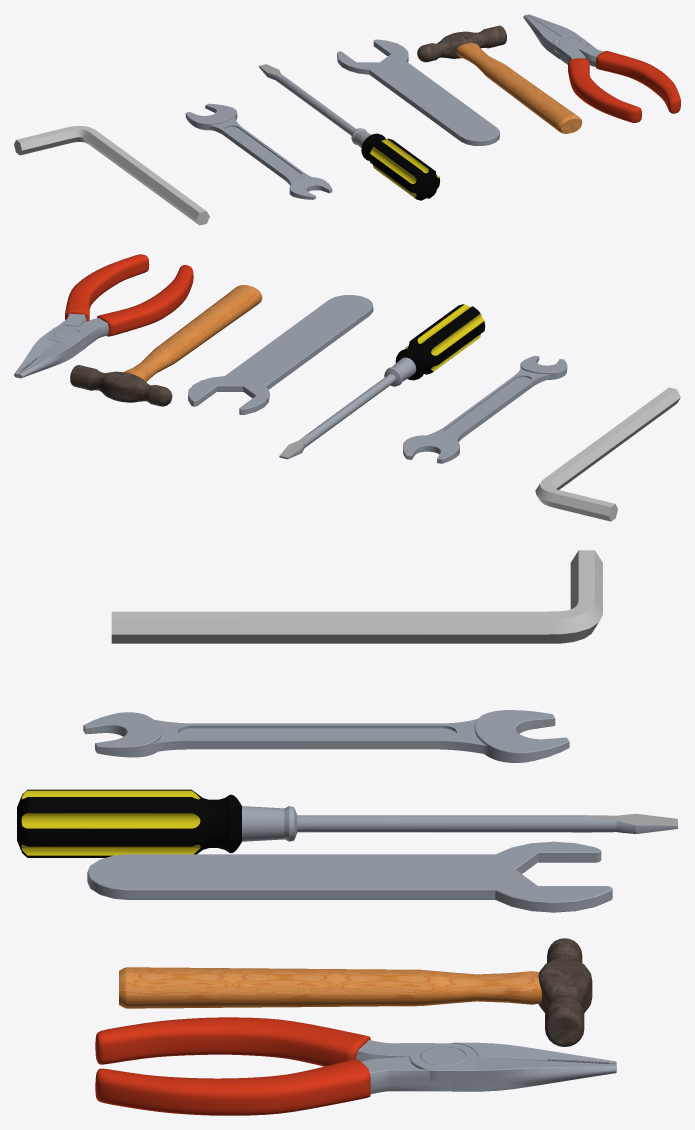
The model's file is chaizhuanggongju.fbx.
The picture shows the model from 3 angles, top to bottom: view 1: azimuth 30°, elevation 25°; view 2: azimuth 150°, elevation 25°; view 3: azimuth 270°, elevation 25°; orthographic projection. The views are drawn at different scales.
Parts seen in each view (by area): view 1: wailiujiaobanshou, yiziluosidao, neiliujiaobanshou3, daibanshou, polySurface6, Needle_Nose_Pliars_Lever:Needle_Nose_Pliars_Lever_Part_2, Needle_Nose_Pliars_Base:Needle_Nose_Pliars_Base_Part_2, polySurface10, Needle_Nose_Pliars_Lever:Needle_Nose_Pliars_Lever_Part_1, Needle_Nose_Pliars_Base:Needle_Nose_Pliars_Base_Part_1; view 2: wailiujiaobanshou, yiziluosidao, neiliujiaobanshou3, daibanshou, polySurface6, Needle_Nose_Pliars_Base:Needle_Nose_Pliars_Base_Part_2, polySurface10, Needle_Nose_Pliars_Lever:Needle_Nose_Pliars_Lever_Part_2, Needle_Nose_Pliars_Base:Needle_Nose_Pliars_Base_Part_1, Needle_Nose_Pliars_Lever:Needle_Nose_Pliars_Lever_Part_1; view 3: wailiujiaobanshou, yiziluosidao, neiliujiaobanshou3, polySurface6, daibanshou, Needle_Nose_Pliars_Lever:Needle_Nose_Pliars_Lever_Part_2, Needle_Nose_Pliars_Base:Needle_Nose_Pliars_Base_Part_2, Needle_Nose_Pliars_Base:Needle_Nose_Pliars_Base_Part_1, polySurface10, Needle_Nose_Pliars_Lever:Needle_Nose_Pliars_Lever_Part_1.
Boxes of the visible parts, bbox=[...] form: wailiujiaobanshou: bbox=[337, 39, 499, 145]; yiziluosidao: bbox=[259, 64, 439, 200]; neiliujiaobanshou3: bbox=[14, 126, 209, 225]; daibanshou: bbox=[185, 103, 332, 199]; polySurface6: bbox=[456, 43, 582, 133]; Needle_Nose_Pliars_Lever:Needle_Nose_Pliars_Lever_Part_2: bbox=[596, 51, 680, 113]; Needle_Nose_Pliars_Base:Needle_Nose_Pliars_Base_Part_2: bbox=[568, 58, 641, 122]; polySurface10: bbox=[417, 25, 506, 62]; Needle_Nose_Pliars_Lever:Needle_Nose_Pliars_Lever_Part_1: bbox=[523, 14, 603, 66]; Needle_Nose_Pliars_Base:Needle_Nose_Pliars_Base_Part_1: bbox=[527, 14, 587, 64]; wailiujiaobanshou: bbox=[188, 295, 373, 414]; yiziluosidao: bbox=[279, 304, 485, 459]; neiliujiaobanshou3: bbox=[535, 387, 680, 521]; daibanshou: bbox=[403, 355, 567, 463]; polySurface6: bbox=[123, 285, 262, 382]; Needle_Nose_Pliars_Base:Needle_Nose_Pliars_Base_Part_2: bbox=[97, 265, 193, 336]; polySurface10: bbox=[70, 365, 172, 406]; Needle_Nose_Pliars_Lever:Needle_Nose_Pliars_Lever_Part_2: bbox=[65, 254, 149, 321]; Needle_Nose_Pliars_Base:Needle_Nose_Pliars_Base_Part_1: bbox=[14, 318, 108, 377]; Needle_Nose_Pliars_Lever:Needle_Nose_Pliars_Lever_Part_1: bbox=[18, 313, 86, 378]; wailiujiaobanshou: bbox=[87, 841, 612, 912]; yiziluosidao: bbox=[17, 789, 677, 857]; neiliujiaobanshou3: bbox=[111, 550, 602, 643]; polySurface6: bbox=[119, 967, 541, 1008]; daibanshou: bbox=[83, 710, 569, 762]; Needle_Nose_Pliars_Lever:Needle_Nose_Pliars_Lever_Part_2: bbox=[95, 1059, 370, 1115]; Needle_Nose_Pliars_Base:Needle_Nose_Pliars_Base_Part_2: bbox=[95, 1017, 370, 1066]; Needle_Nose_Pliars_Base:Needle_Nose_Pliars_Base_Part_1: bbox=[356, 1040, 616, 1091]; polySurface10: bbox=[538, 938, 592, 1046]; Needle_Nose_Pliars_Lever:Needle_Nose_Pliars_Lever_Part_1: bbox=[361, 1042, 616, 1093].
Bounding box in the file's own units: 43.42 × 2.24 × 22.36.
5 materials, 4 textured.
